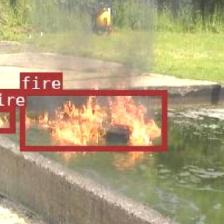fire: (19, 89, 166, 150), (0, 105, 13, 132)
